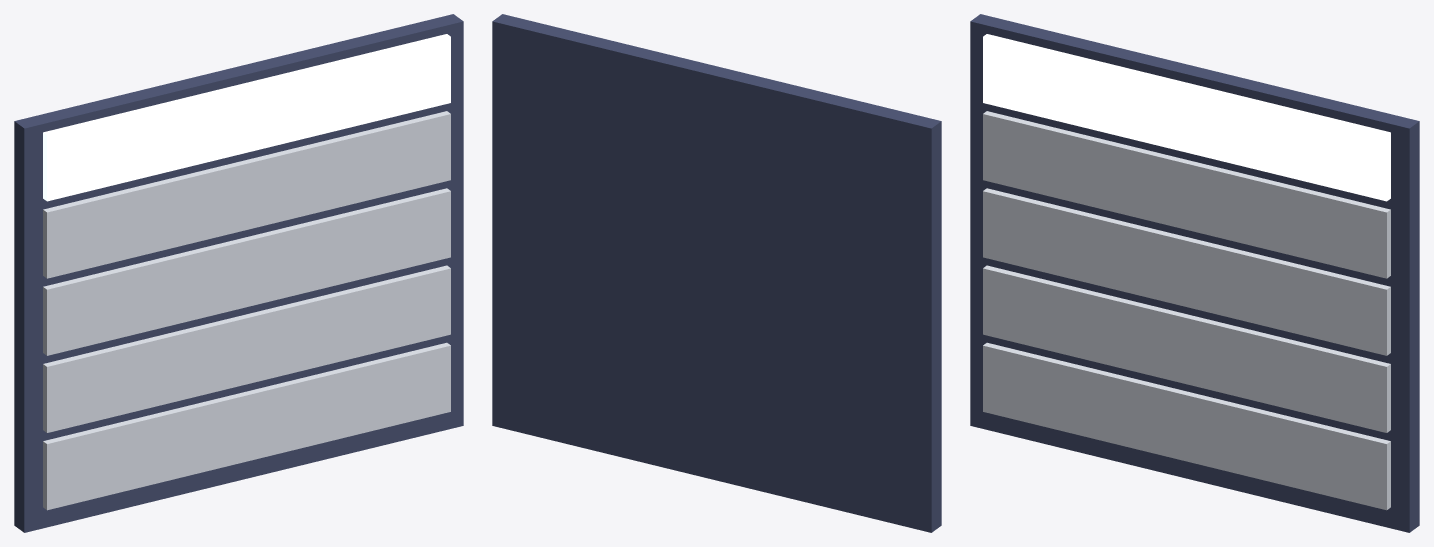
The model's file is Dropdown.fbx.
3 renders of one model, left to right at view 1: azimuth 30°, elevation 25°; view 2: azimuth 150°, elevation 25°; view 3: azimuth 330°, elevation 25°, orthographic.
Visible parts, largest first — view 1: Dropdown; view 2: Dropdown; view 3: Dropdown.
Boxes of the visible parts, left/top/right/bottom form: Dropdown: left=14, top=14, right=463, bottom=532; Dropdown: left=492, top=14, right=941, bottom=532; Dropdown: left=970, top=14, right=1419, bottom=532.
Size of the model in its own units: 0.25 by 0.22 by 0.015.
